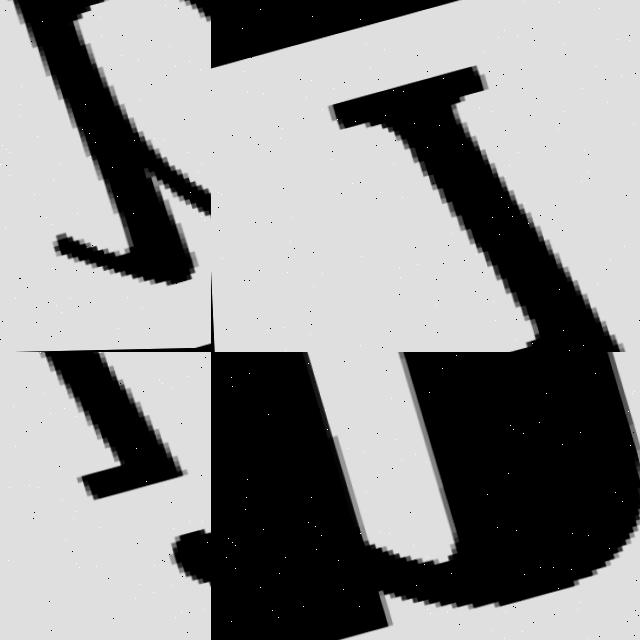I: (326, 26, 640, 352)
J: (0, 352, 211, 640)
N: (211, 352, 640, 640)
